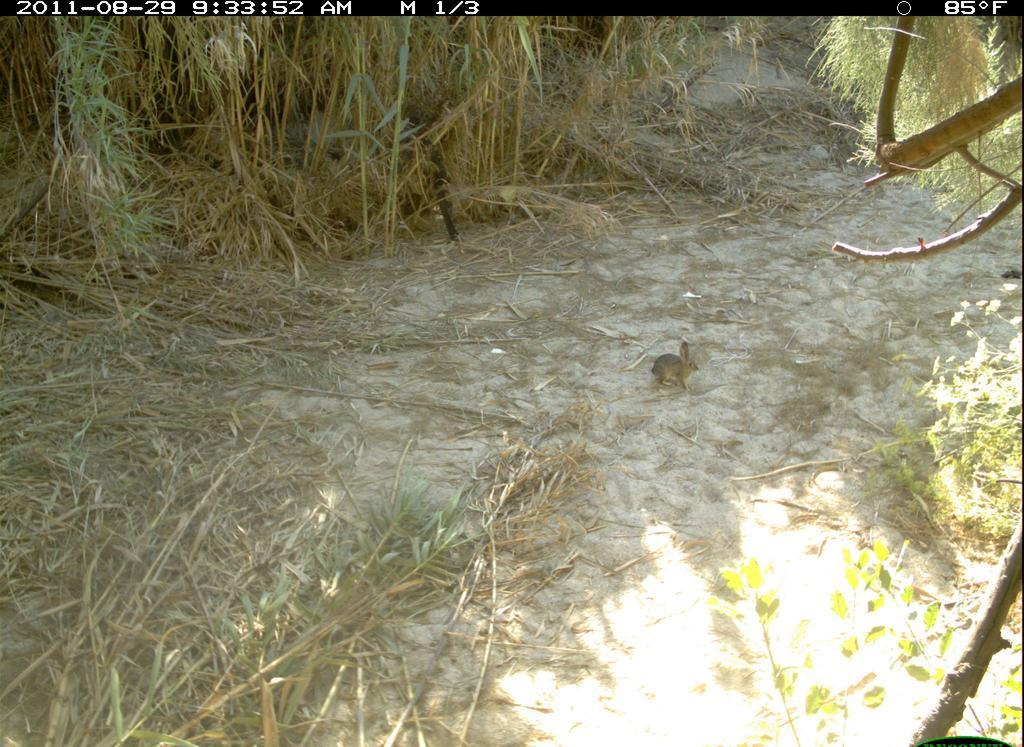rabbit: (647, 332, 711, 405)
